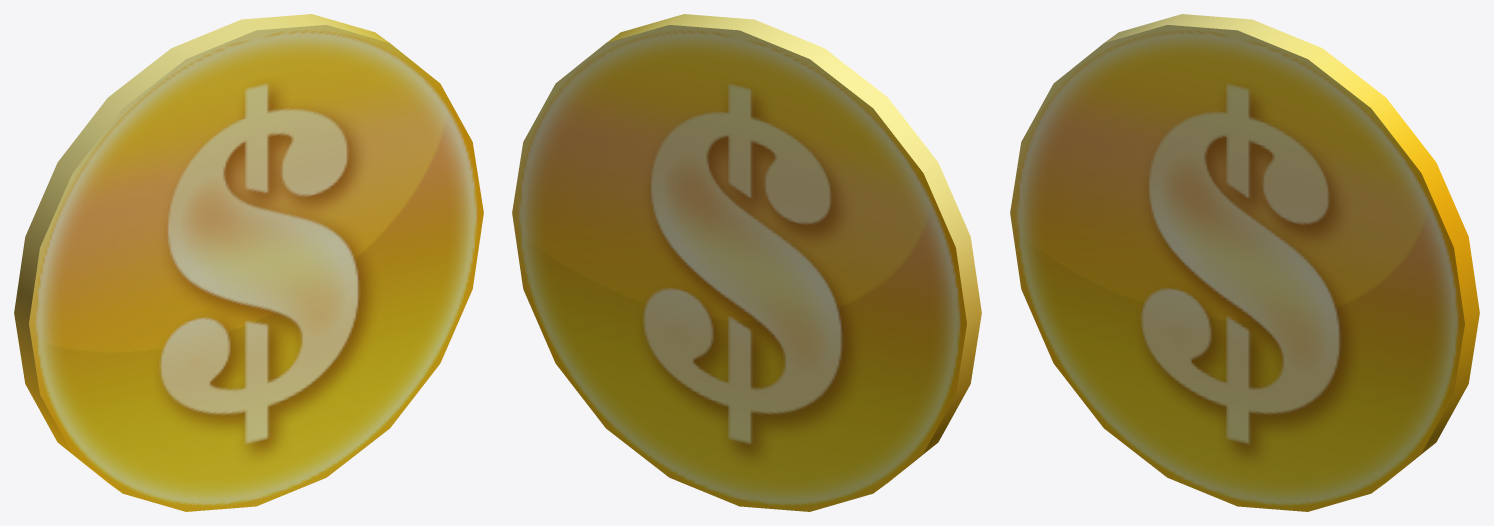
Rendered from coin.FBX.
3 views of the same model, side by side, from view 1: azimuth 30°, elevation 25°; view 2: azimuth 150°, elevation 25°; view 3: azimuth 330°, elevation 25° (orthographic).
Visible parts, largest first — view 1: Cylinder001; view 2: Cylinder001; view 3: Cylinder001.
Boxes of the visible parts, <box> form: Cylinder001: <box>14,14,483,511</box>; Cylinder001: <box>512,14,981,511</box>; Cylinder001: <box>1010,14,1479,511</box>.
Size of the model in its own units: 14.33 by 14.33 by 0.8086.
1 material, 1 textured.
